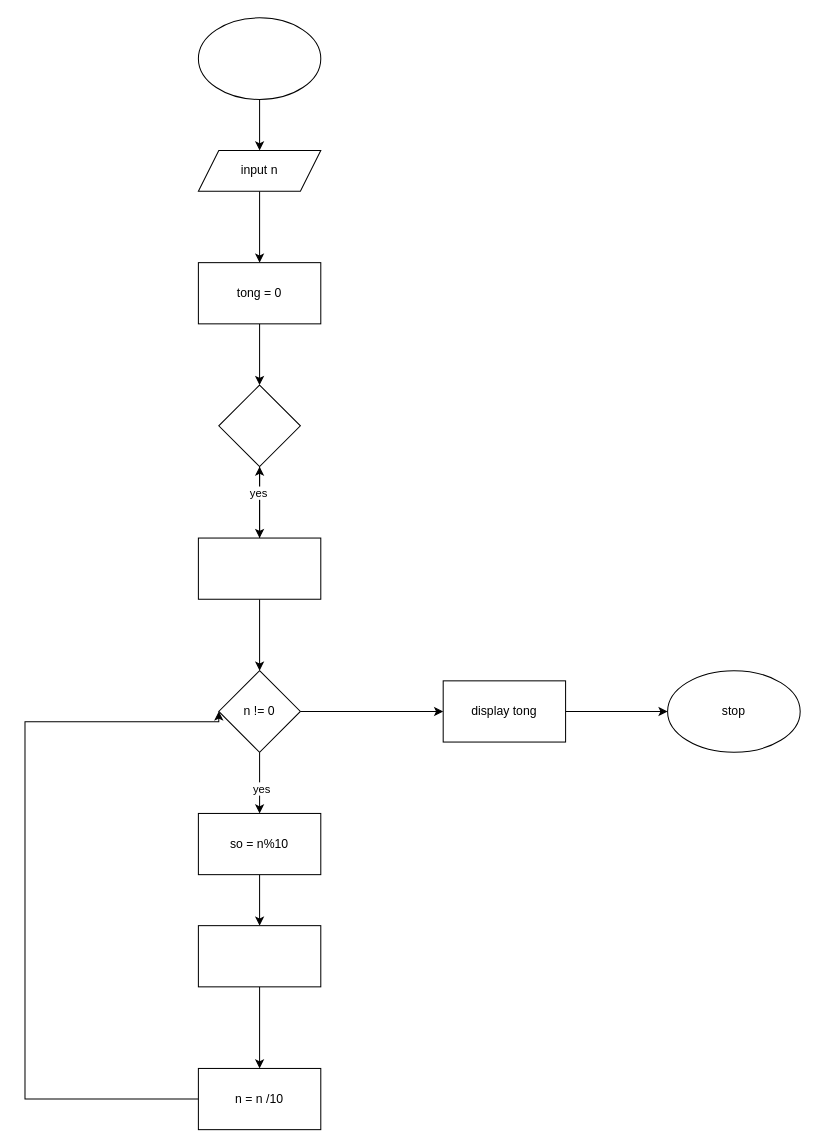
This 818x1148 diagram has some shape labels left out. Here are the shapes that lost their labels. From the top down, the centre of each, then its label:
At (x=259, y=58): "start".
At (x=259, y=425): "n< 0".
At (x=259, y=568): "n= -n".
At (x=259, y=956): "tong = tong + so".
